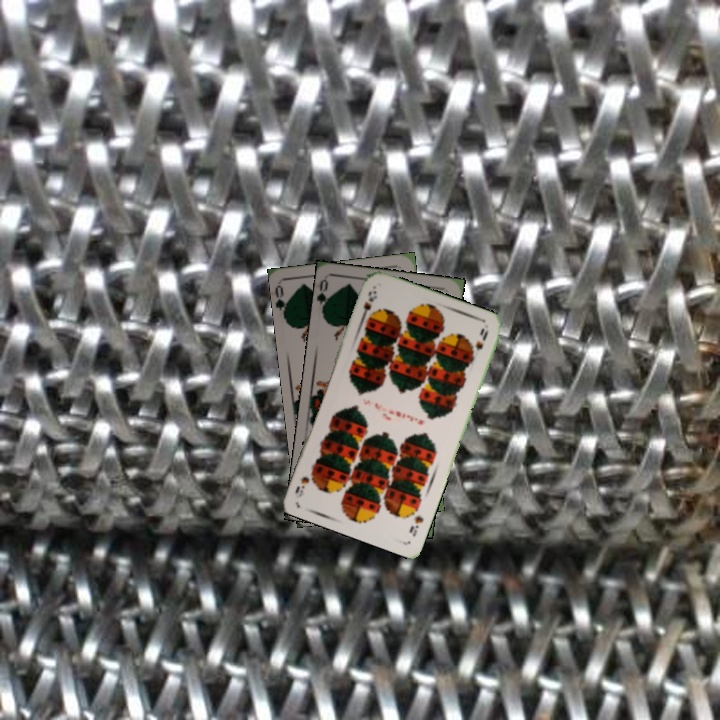GO: (272, 282, 293, 323), (315, 276, 336, 317)
S9: (357, 284, 380, 323), (405, 512, 426, 539)
